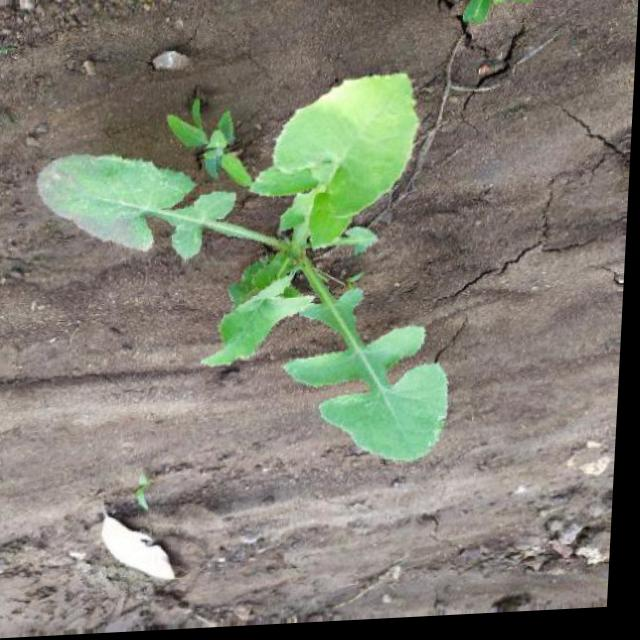weed: (24, 74, 471, 509)
